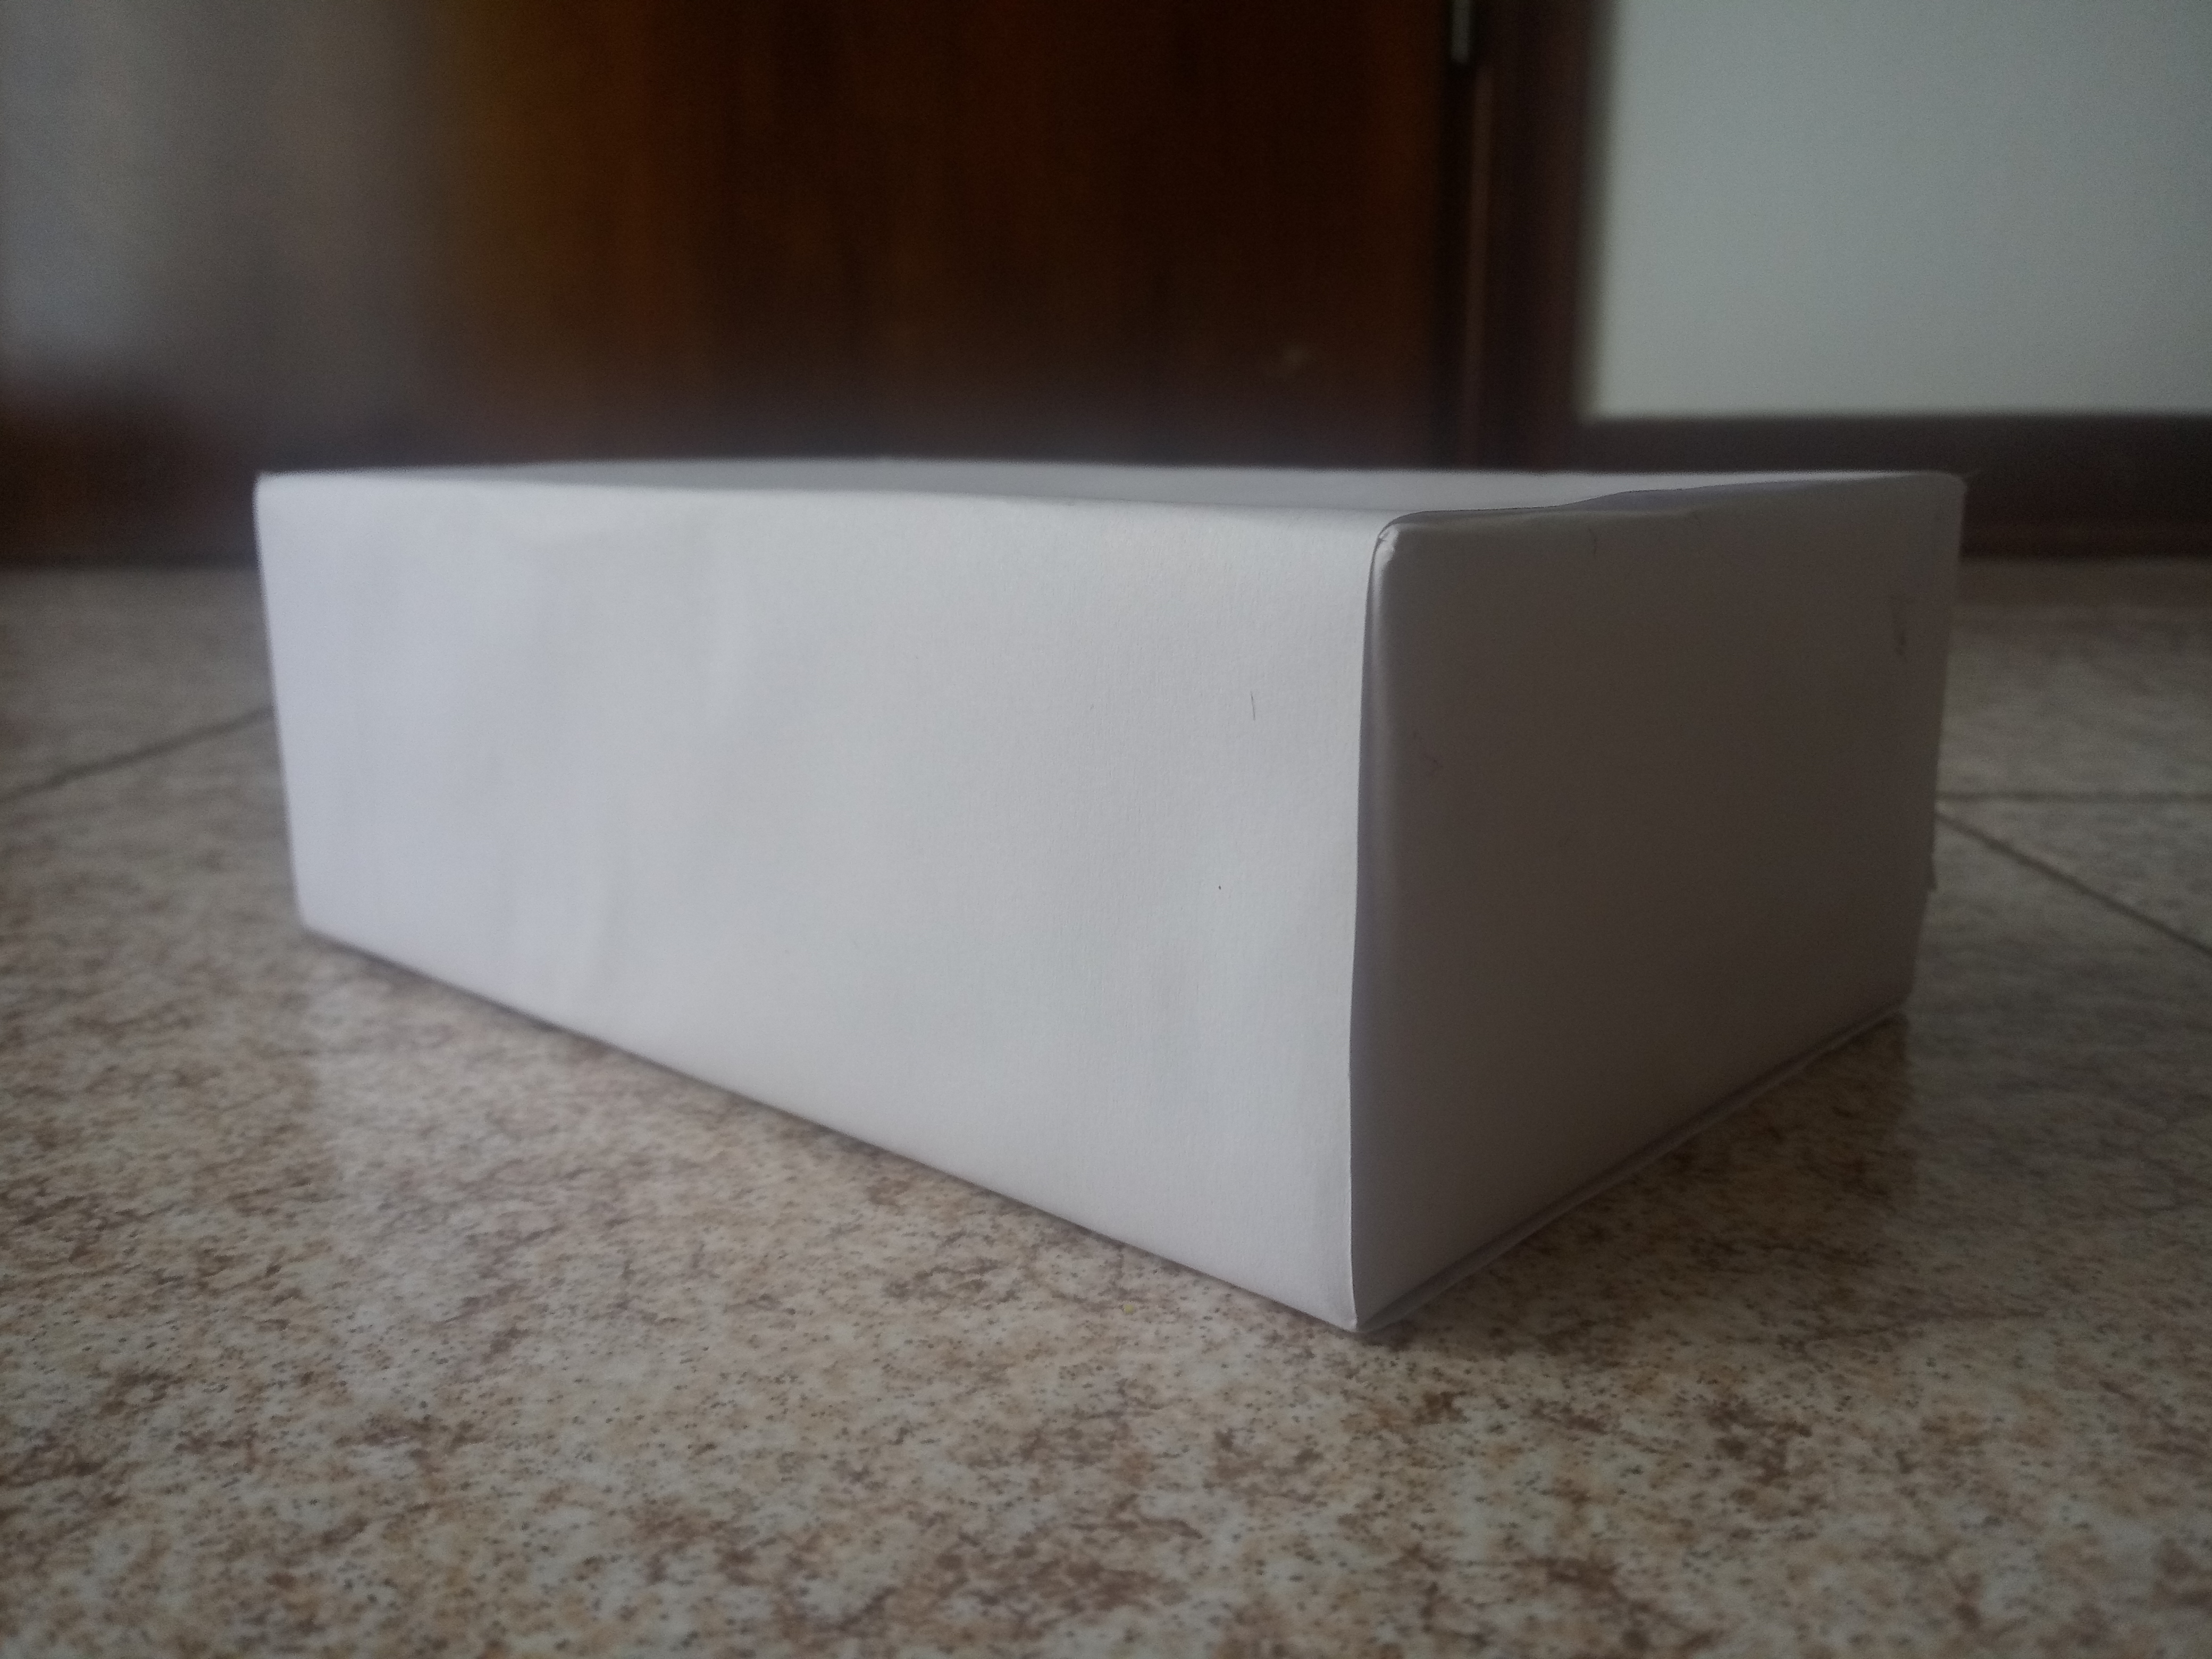white_box: (207, 401, 2006, 1385)
